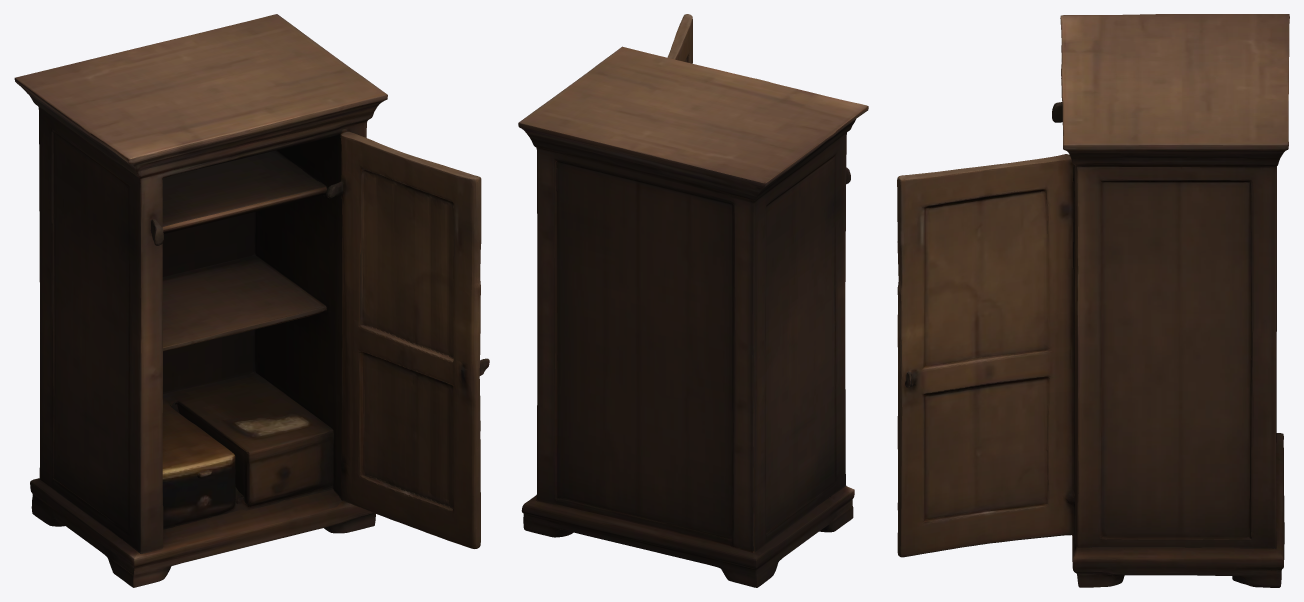
File: open_cabinet.glb
3 renders of one model, left to right at view 1: azimuth 30°, elevation 25°; view 2: azimuth 150°, elevation 25°; view 3: azimuth 270°, elevation 25°, orthographic. The views are drawn at different scales.
Visible parts, largest first — view 1: geometry_0; view 2: geometry_0; view 3: geometry_0.
Boxes of the visible parts, x1,y1,x2,y2 form: geometry_0: (14,14,489,587); geometry_0: (518,14,868,587); geometry_0: (897,14,1289,587).
Size of the model in its own units: 0.6958 by 1 by 0.7987.
1 material, 1 textured.
